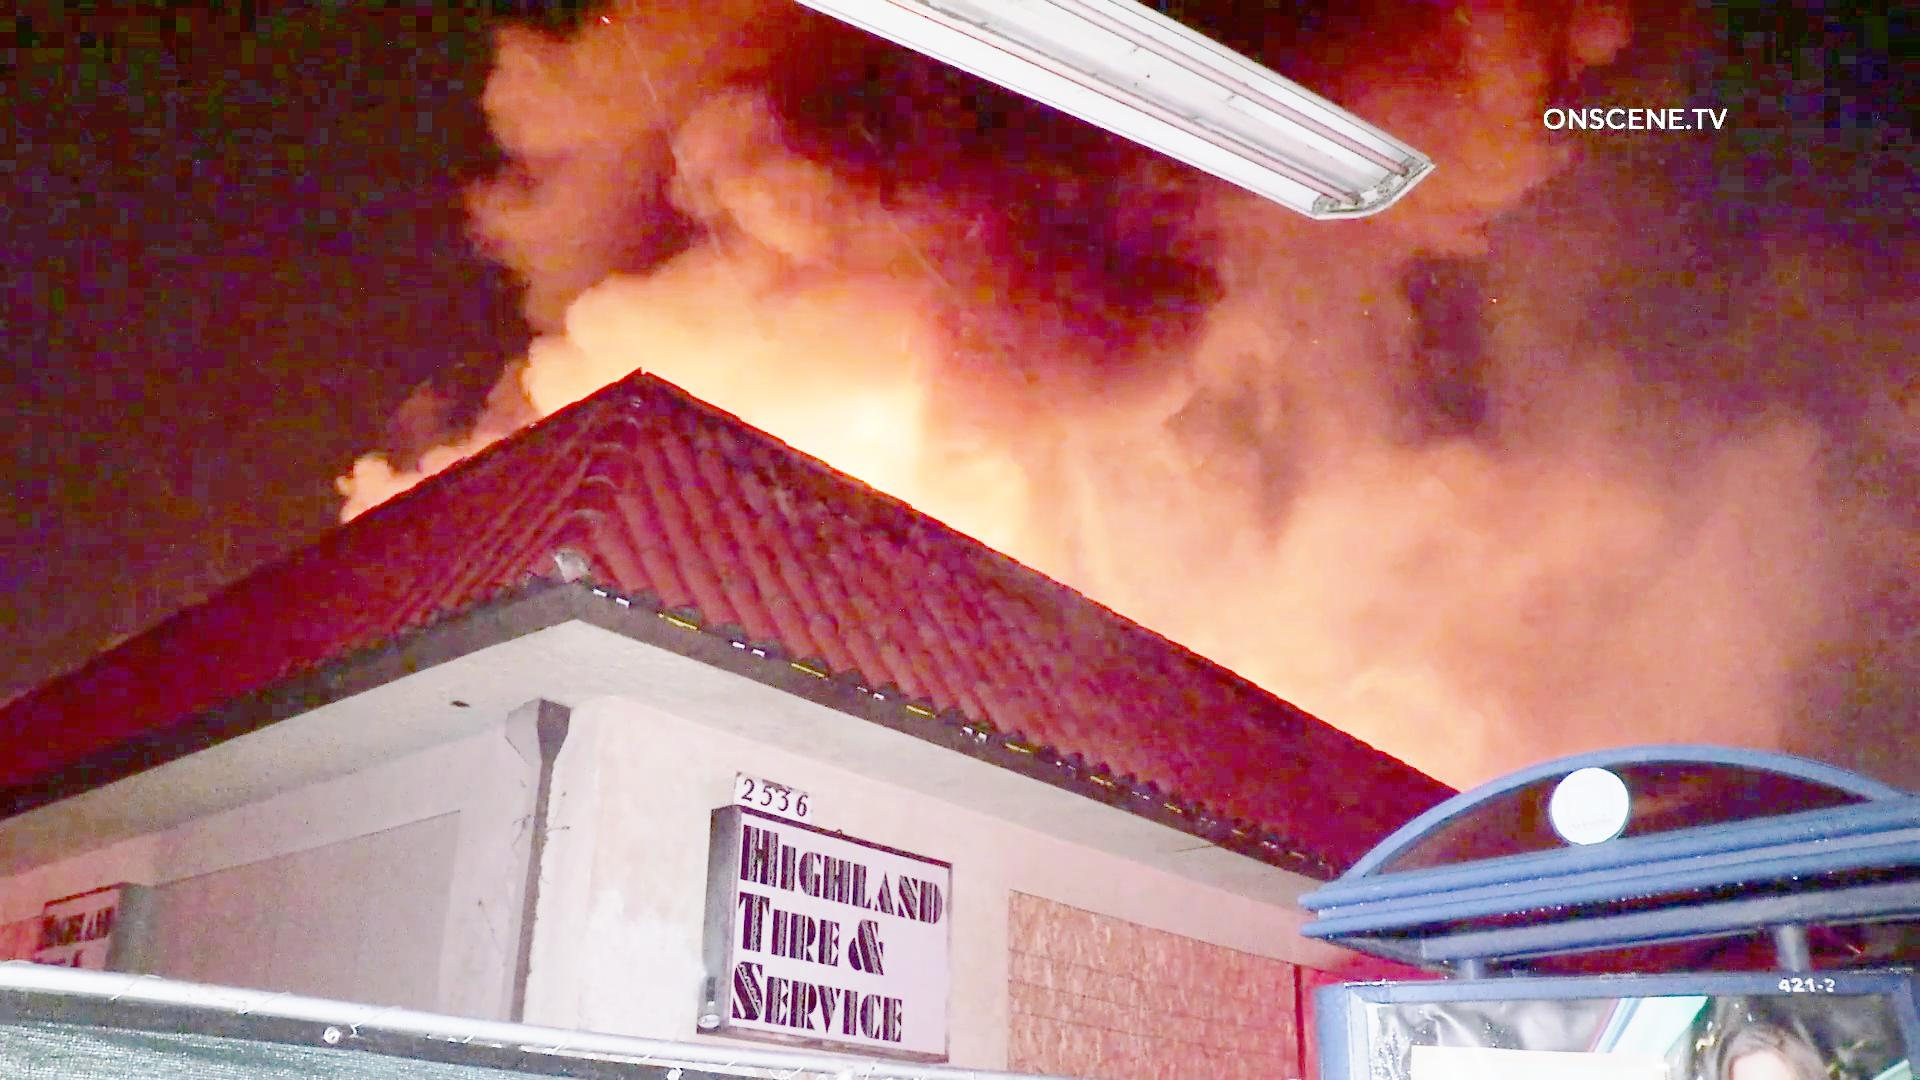smoke: (575, 150, 1145, 359)
